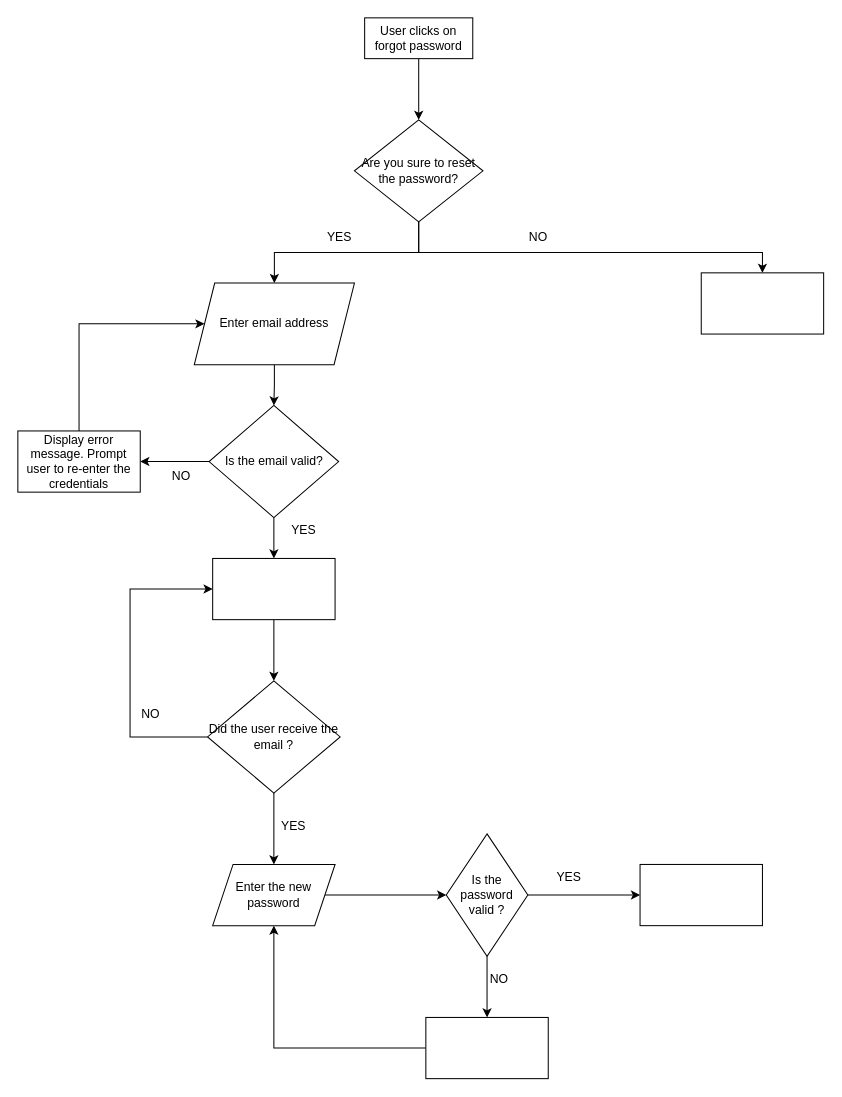
The diagram is 842 pixels wide and 1097 high, and some of its shapes have lost their labels. Each missing label, with the box of its shape:
Password is not valid please enter according to the information provided.: (425, 1016, 548, 1079)
Redirect to login page.: (700, 272, 824, 334)
Send reset link on the email: (212, 557, 335, 620)
Update password and redirect to login page: (639, 863, 762, 926)
